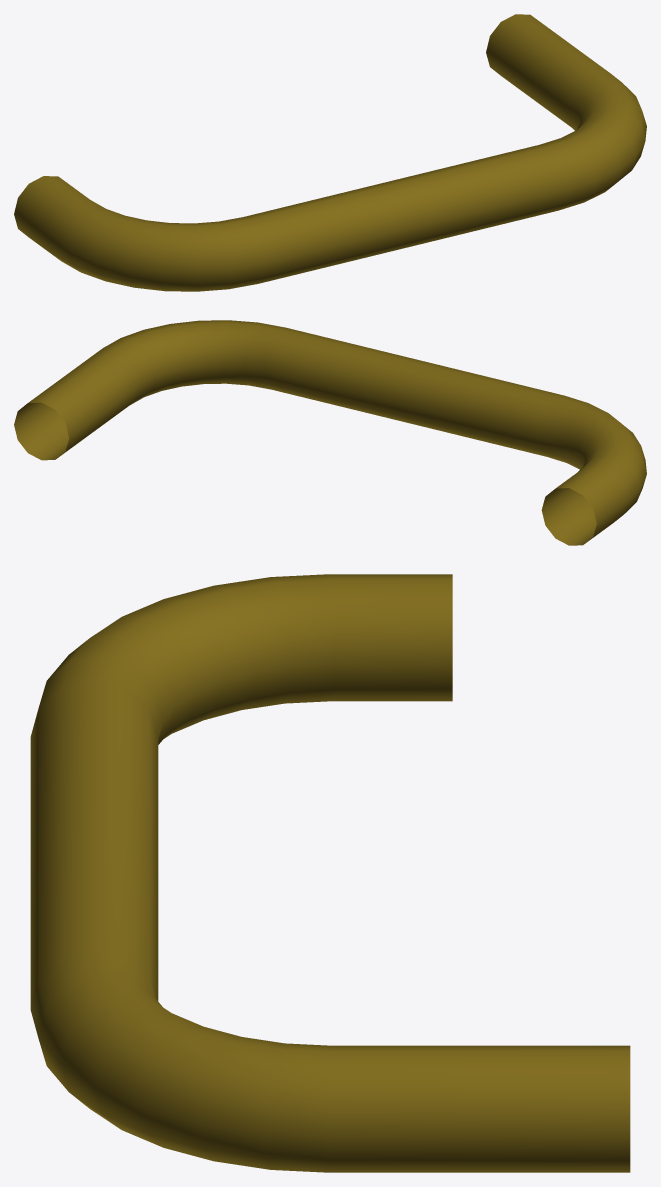
Rendered from SM_Handle_Door.fbx.
3 renders of one model, top to bottom at view 1: azimuth 30°, elevation 25°; view 2: azimuth 150°, elevation 25°; view 3: azimuth 270°, elevation 25°, orthographic. The views are drawn at different scales.
Parts seen in each view (by area): view 1: SM_Handle_Door; view 2: SM_Handle_Door; view 3: SM_Handle_Door.
Boxes of the visible parts, x1=… form: SM_Handle_Door: x1=14, y1=14, x2=646, y2=291; SM_Handle_Door: x1=14, y1=320, x2=646, y2=545; SM_Handle_Door: x1=30, y1=574, x2=630, y2=1172.
Size of the model in its own units: 15.61 by 1.6 by 7.52.
